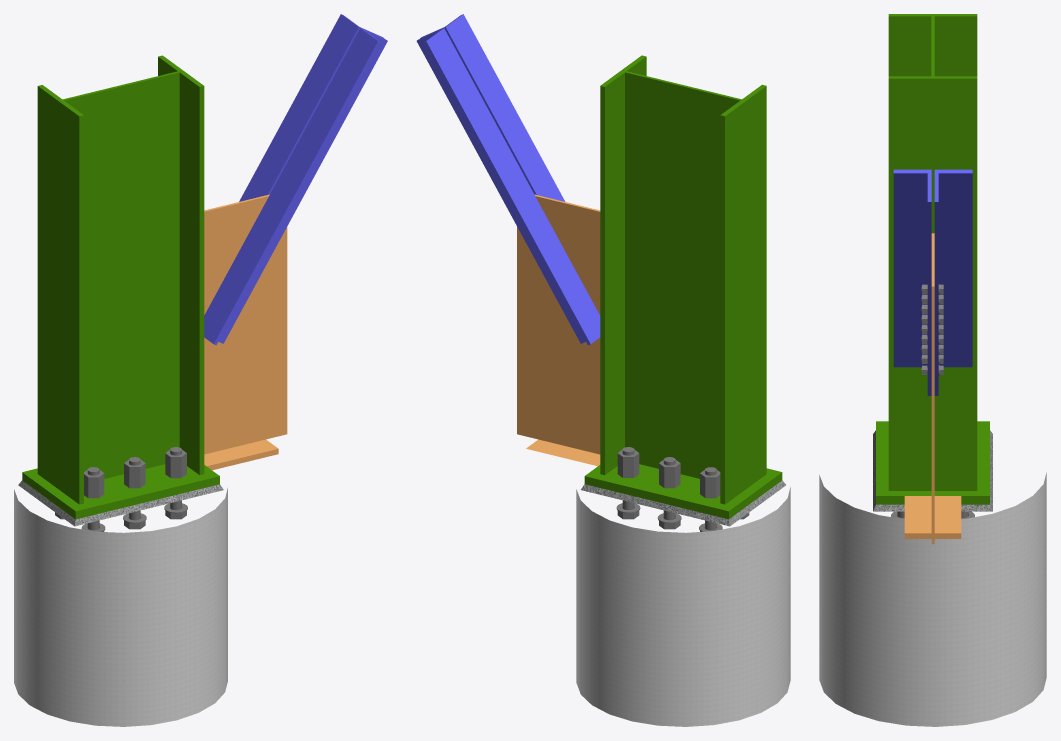
File: Neyland Connection (centered).glb
3 renders of one model, left to right at view 1: azimuth 30°, elevation 25°; view 2: azimuth 150°, elevation 25°; view 3: azimuth 270°, elevation 25°, orthographic. The views are drawn at different scales.
Visible parts, largest first — view 1: object 1, object 18, object 17, object 7, AISC_ A325 Bolt_Washer_Nut 1.500 (×3), object 6; view 2: object 1, object 18, object 17, object 7, AISC_ A325 Bolt_Washer_Nut 1.500 (×3), object 6; view 3: object 18, object 1, object 7, object 6, object 17.
Boxes of the visible parts, <box> form: object 1: <box>18,55,223,526</box>; object 18: <box>14,488,227,726</box>; object 17: <box>204,194,287,454</box>; object 7: <box>204,14,387,345</box>; AISC_ A325 Bolt_Washer_Nut 1.500 (×3): <box>81,447,187,531</box>; object 6: <box>204,439,278,470</box>; object 1: <box>581,55,785,526</box>; object 18: <box>576,487,790,726</box>; object 17: <box>517,194,600,454</box>; object 7: <box>416,14,600,345</box>; AISC_ A325 Bolt_Washer_Nut 1.500 (×3): <box>616,447,722,531</box>; object 6: <box>526,439,600,466</box>; object 18: <box>819,472,1046,726</box>; object 1: <box>873,14,992,511</box>; object 7: <box>893,169,972,395</box>; object 6: <box>904,496,961,538</box>; object 17: <box>931,233,934,544</box>.
Size of the model in its own units: 1.76 by 2.81 by 0.9141.
Materials: 7 (3 with a texture image).
